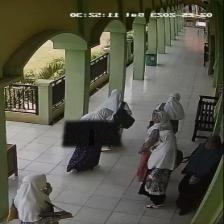Cadar_Niqab: (61, 108, 121, 146)
